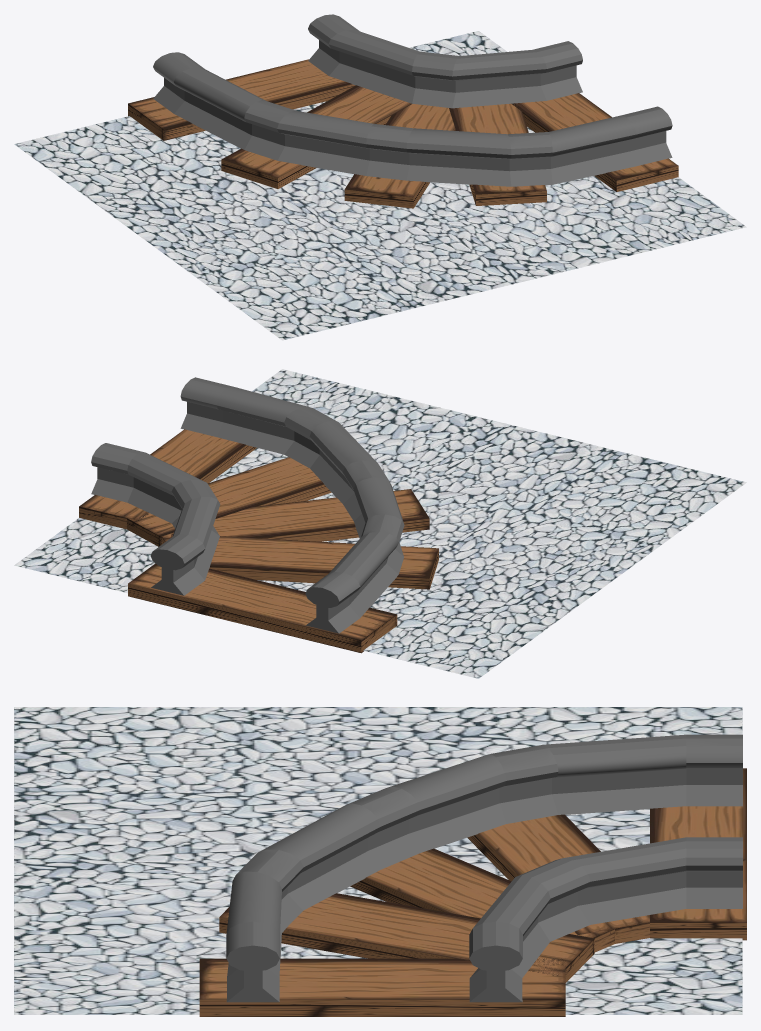
File: railQuiTourneWithBackGround.fbx
The picture shows the model from 3 angles, top to bottom: view 1: azimuth 30°, elevation 25°; view 2: azimuth 150°, elevation 25°; view 3: azimuth 270°, elevation 25°; orthographic projection. The views are drawn at different scales.
Visible parts, largest first — view 1: Plane, railExterieur, railIntérieur, planche.001, planche.004, planche, planche.003, planche.002; view 2: Plane, railExterieur, railIntérieur, planche.001, planche.004, planche.003, planche.002, planche; view 3: Plane, railExterieur, railIntérieur, planche, planche.002, planche.003, planche.001, planche.004.
Boxes of the visible parts, x1,y1,x2,y2 form: Plane: (14,31,746,340); railExterieur: (153,52,672,186); railIntérieur: (308,14,582,108); planche.001: (128,59,355,140); planche.004: (221,85,411,188); planche: (511,93,678,191); planche.003: (344,104,455,208); planche.002: (449,103,546,205); Plane: (14,369,746,678); railExterieur: (180,377,404,633); railIntérieur: (91,443,220,595); planche.001: (128,563,397,653); planche.004: (170,533,438,589); planche.003: (162,489,429,544); planche.002: (127,457,331,546); planche: (79,429,256,529); Plane: (14,707,742,1014); railExterieur: (226,734,742,1002); railIntérieur: (469,837,742,1002); planche: (199,958,565,1016); planche.002: (219,893,594,982); planche.003: (350,848,614,952); planche.001: (650,768,746,940); planche.004: (467,814,649,943).
Size of the model in its own units: 3025 by 336 by 3018.
